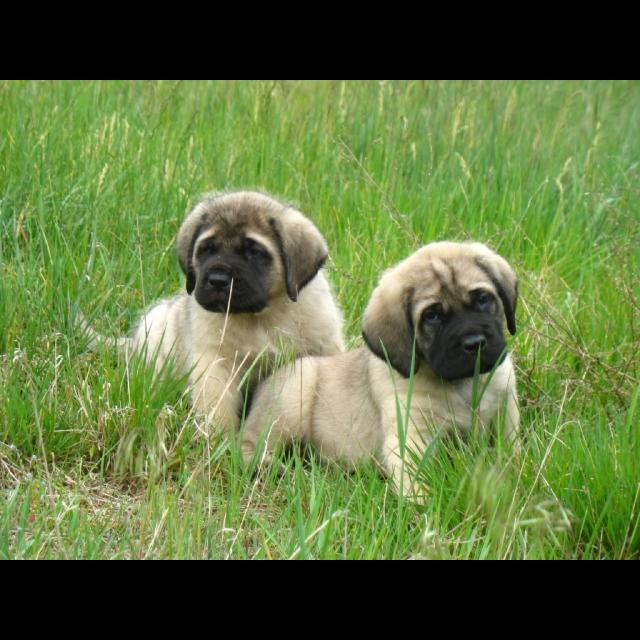mastiff: (240, 240, 523, 508), (72, 190, 347, 446)
